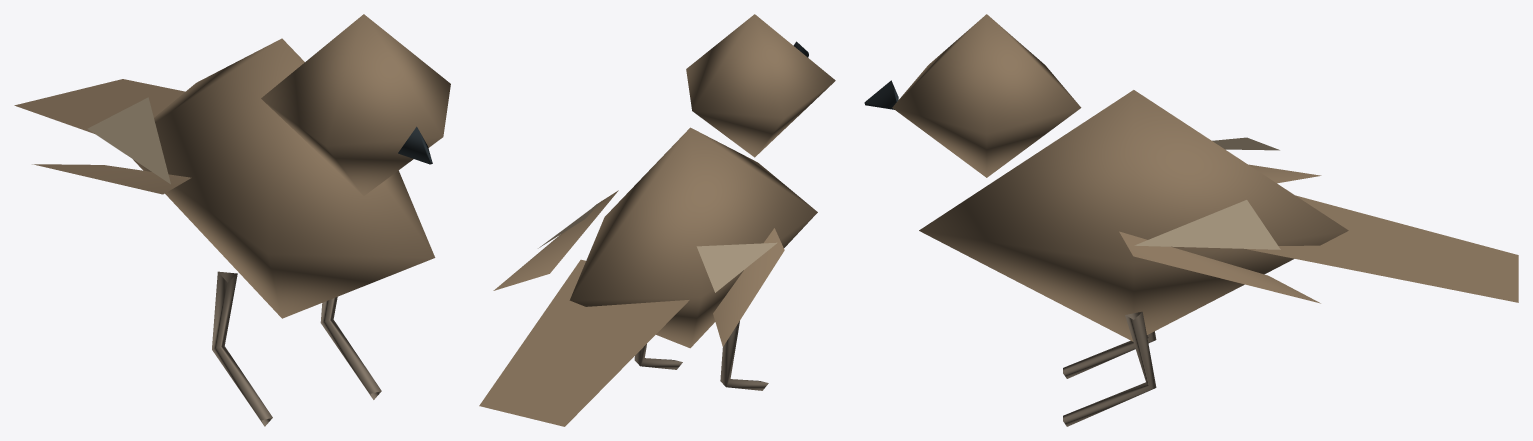
File: dove-1.glb
3 views of the same model, side by side, from view 1: azimuth 30°, elevation 25°; view 2: azimuth 150°, elevation 25°; view 3: azimuth 270°, elevation 25° (orthographic). The views are drawn at different scales.
Parts seen in each view (by area): view 1: dove; view 2: dove; view 3: dove.
Part boxes in pixels (bbox=[...]): dove: bbox=[14, 14, 450, 426]; dove: bbox=[479, 14, 835, 426]; dove: bbox=[864, 14, 1518, 426].
Bounding box in the file's own units: 0.1742 × 0.2467 × 0.3758.
